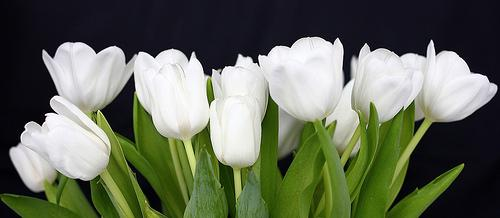tulip: (44, 36, 135, 119), (21, 99, 110, 183), (261, 37, 346, 120), (350, 41, 423, 122), (425, 43, 499, 122), (147, 53, 208, 140), (209, 95, 268, 169), (213, 53, 268, 108), (11, 144, 56, 191)
